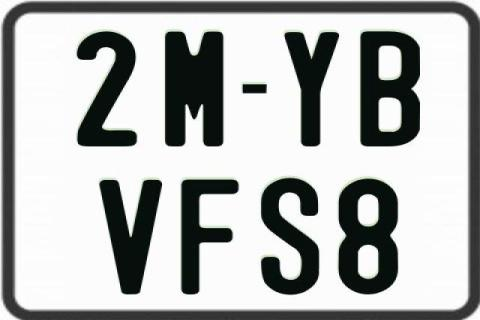0: (336, 177, 402, 297), (74, 31, 134, 146)
B: (360, 29, 422, 148)
F: (181, 178, 245, 296)
M: (165, 29, 226, 148)
S: (260, 177, 320, 297)
V: (96, 180, 163, 297)
Y: (283, 32, 338, 150)
